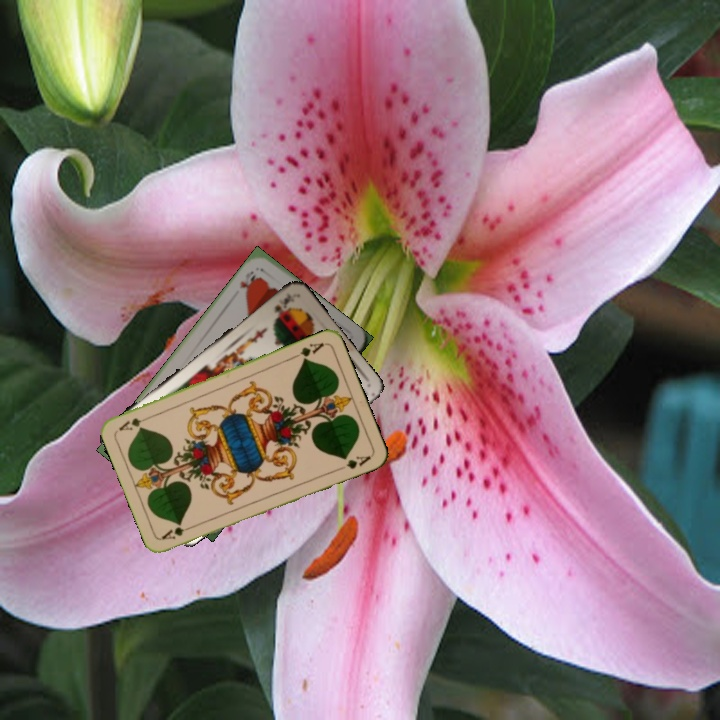GA: (288, 338, 327, 363), (158, 521, 197, 543)
HO: (236, 267, 260, 296)
SK: (270, 288, 297, 317)
